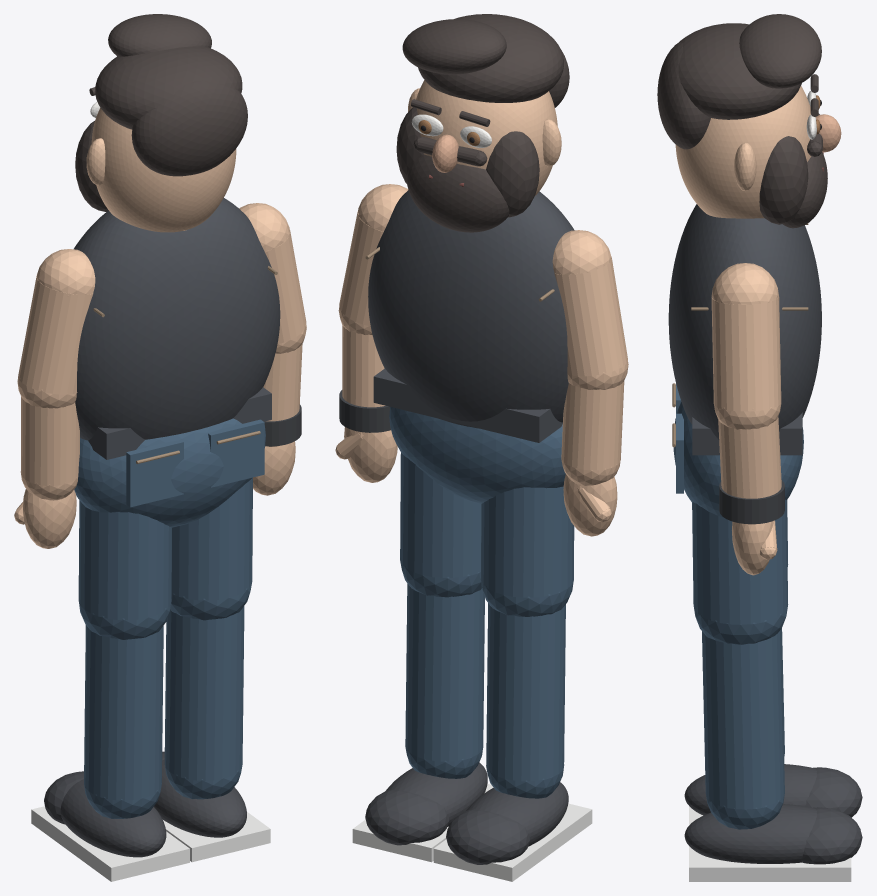
The model's file is png 6.glb.
3 views of the same model, side by side, from view 1: azimuth 30°, elevation 25°; view 2: azimuth 150°, elevation 25°; view 3: azimuth 270°, elevation 25° (orthographic).
Parts seen in each view (by area): view 1: torso_shirt, L_calf_shaft, R_calf_shaft, L_thigh_shaft, head, hair_back, pelvis, R_thigh_shaft, hair_cap, L_upper_arm_shaft, L_forearm_shaft, L_shoe_body (+23 smaller); view 2: torso_shirt, L_calf_shaft, R_calf_shaft, pelvis, L_thigh_shaft, R_thigh_shaft, hair_cap, L_upper_arm_shaft, beard_chin, head, L_forearm_shaft, hair_quiff (+25 smaller); view 3: torso_shirt, R_calf_shaft, head, R_thigh_shaft, R_upper_arm_shaft, hair_cap, R_shoe_body, hair_quiff, R_forearm_shaft, R_shoe_sole, beard_right, pelvis (+15 smaller).
Boxes of the visible parts, x1,y1,x2,y2 form: torso_shirt: (74,198,280,440); L_calf_shaft: (84,625,163,800); R_calf_shaft: (164,606,244,780); L_thigh_shaft: (78,500,171,620); head: (91,108,236,232); hair_back: (131,80,247,176); pelvis: (74,418,265,527); R_thigh_shaft: (171,477,252,600); hair_cap: (95,46,242,129); L_upper_arm_shaft: (18,275,92,394); L_forearm_shaft: (21,396,79,485); L_shoe_body: (60,779,166,857); torso_shirt: (368,190,574,428); L_calf_shaft: (486,603,565,781); R_calf_shaft: (405,583,484,761); pelvis: (389,407,565,503); L_thigh_shaft: (481,486,574,597); R_thigh_shaft: (400,453,481,577); hair_cap: (418,14,563,102); L_upper_arm_shaft: (554,257,627,376); beard_chin: (406,154,509,232); head: (416,80,557,195); L_forearm_shaft: (561,381,624,470); hair_quiff: (402,19,506,74); torso_shirt: (668,204,821,439); R_calf_shaft: (702,629,784,809); head: (675,86,811,218); R_thigh_shaft: (692,499,787,624); R_upper_arm_shaft: (711,296,781,411); hair_cap: (678,23,801,119); R_shoe_body: (684,804,816,863); hair_quiff: (739,14,821,88); R_forearm_shaft: (718,417,781,498); R_shoe_sole: (689,846,851,881); beard_right: (759,136,808,224); pelvis: (673,402,803,517).
Size of the model in its own units: 0.6538 by 1.8 by 0.4075.
